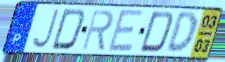D: (137, 10, 176, 54), (49, 7, 87, 52), (164, 11, 198, 56)
E: (106, 8, 146, 54)
J: (30, 9, 60, 51)
R: (80, 9, 115, 52)
